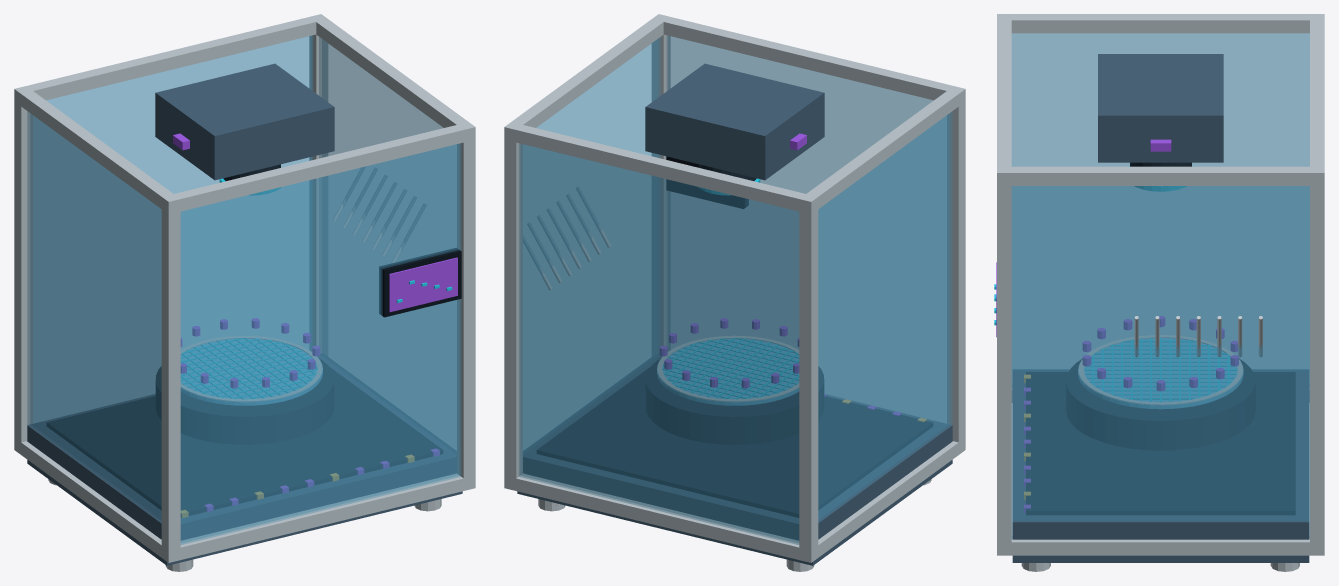
Rendered from 49_L79_InfraredBondVoidTomography.fbx.
The picture shows the model from 3 angles, left to right: view 1: azimuth 30°, elevation 25°; view 2: azimuth 150°, elevation 25°; view 3: azimuth 270°, elevation 25°; orthographic projection. The views are drawn at different scales.
Visible parts, largest first — view 1: InfraredBondVoidTomography; view 2: InfraredBondVoidTomography; view 3: InfraredBondVoidTomography.
Boxes of the visible parts, <box> form: InfraredBondVoidTomography: <box>14,14,475,571</box>; InfraredBondVoidTomography: <box>504,14,965,571</box>; InfraredBondVoidTomography: <box>994,14,1324,571</box>.
Size of the model in its own units: 230 by 267 by 192.
